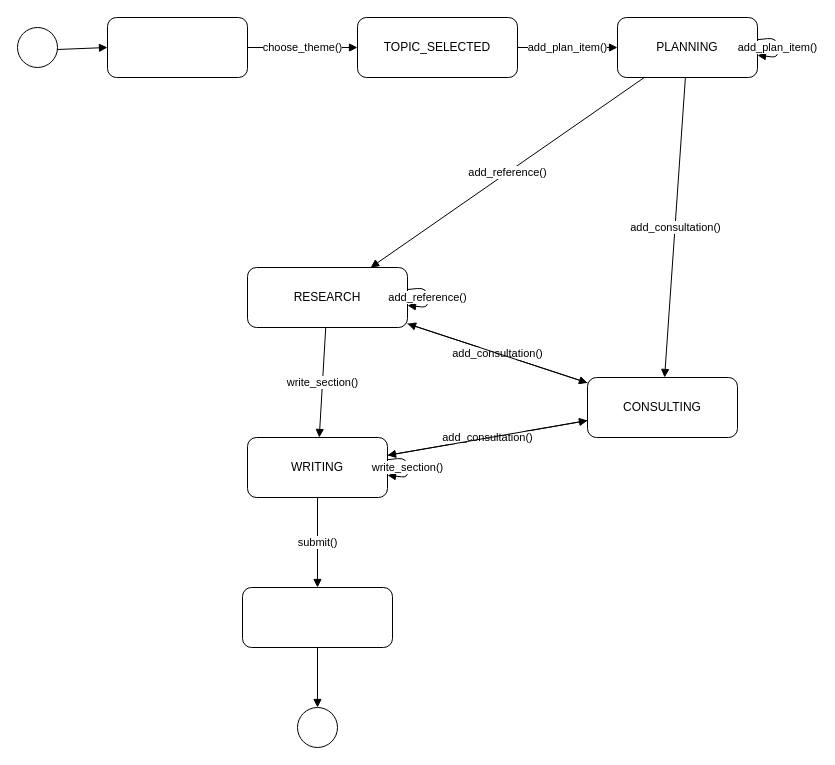
Image size: 835x765. Some labels were removed from this diagram. Each missing label, with the box of its shape:
CREATED: (106, 16, 248, 78)
SUBMITTED: (242, 586, 392, 648)
